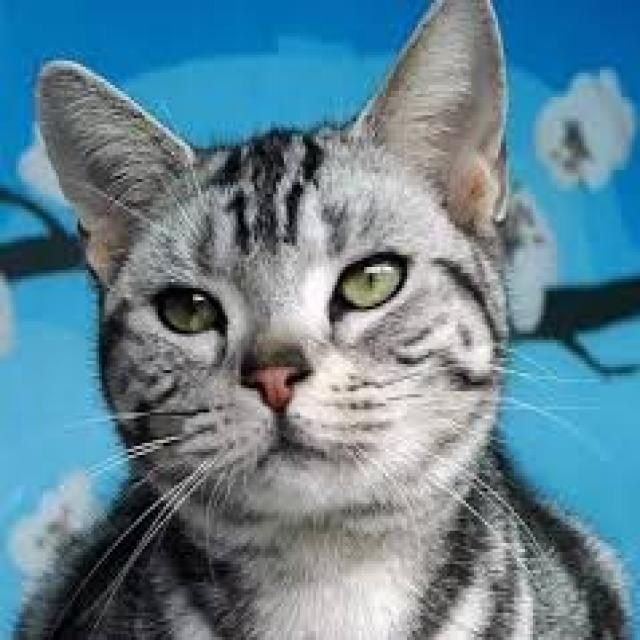cat: (3, 9, 627, 640)
